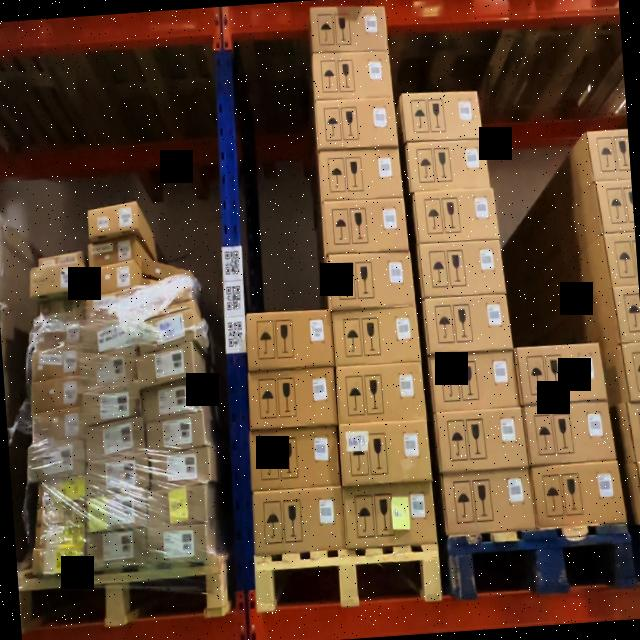box: (251, 486, 347, 555), (433, 407, 527, 473), (530, 460, 625, 525), (441, 469, 535, 534), (522, 400, 615, 465), (248, 425, 341, 490), (343, 482, 437, 546), (339, 421, 431, 486), (247, 366, 338, 430), (429, 350, 520, 413), (246, 309, 336, 372), (515, 342, 605, 404), (335, 364, 426, 425), (423, 294, 512, 354), (332, 305, 421, 365), (327, 250, 416, 309), (417, 238, 505, 297), (322, 196, 407, 254), (412, 189, 498, 244), (313, 95, 396, 150), (318, 147, 402, 201), (404, 139, 489, 192), (399, 89, 483, 142), (312, 50, 393, 99), (309, 6, 387, 55), (86, 416, 145, 461), (139, 339, 195, 386), (151, 445, 210, 489), (86, 453, 149, 494), (137, 305, 195, 349), (87, 491, 149, 532), (83, 382, 141, 425), (146, 522, 208, 562), (85, 528, 147, 568), (146, 410, 205, 451), (146, 484, 206, 524), (27, 441, 84, 483), (142, 379, 200, 420), (79, 350, 138, 389), (78, 317, 137, 354), (135, 278, 193, 311), (31, 343, 79, 382), (85, 262, 134, 300), (31, 376, 81, 413), (29, 261, 80, 297), (32, 407, 80, 444), (33, 318, 85, 351), (37, 475, 86, 508), (88, 236, 138, 268), (87, 201, 136, 233), (83, 290, 135, 319), (32, 546, 84, 574), (35, 525, 84, 550), (37, 297, 84, 322), (36, 508, 86, 528), (142, 260, 190, 279), (38, 252, 82, 266)
